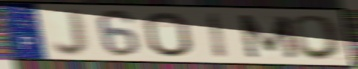6: (95, 8, 141, 59)
I: (206, 11, 230, 61)
J: (51, 7, 91, 58)
M: (235, 13, 300, 60)
O: (289, 14, 347, 62), (142, 10, 196, 59)
